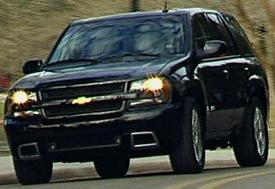front_view: (14, 82, 182, 146)
headlight: (124, 76, 172, 110)
side_glass: (190, 14, 241, 57)
